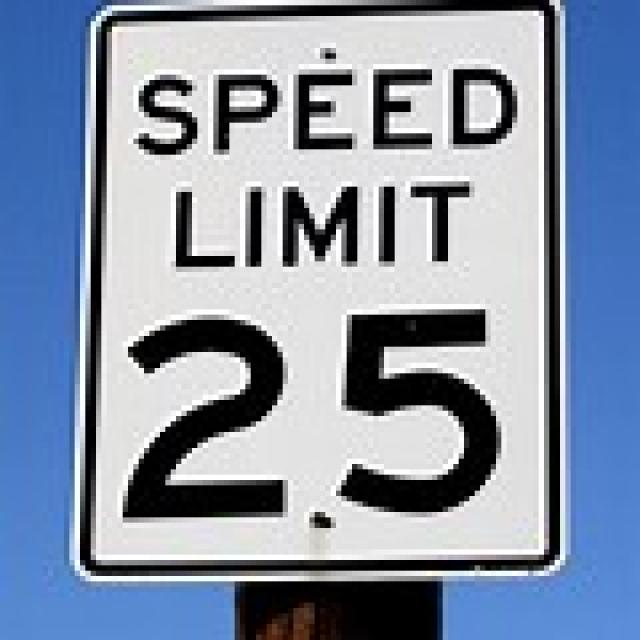speedLimit25: (88, 16, 563, 587)
